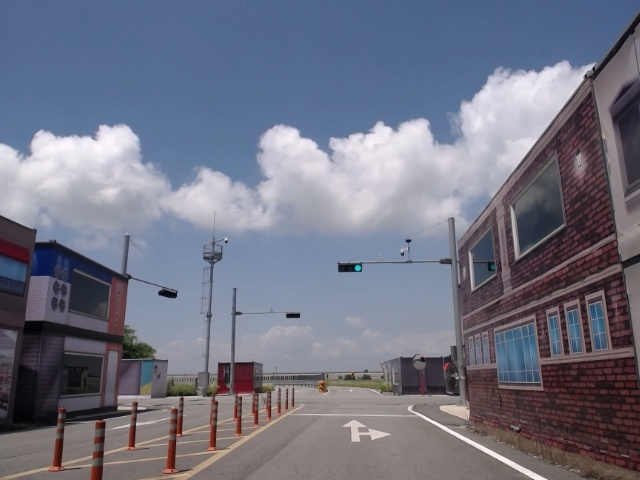green_3: (338, 263, 364, 273)
